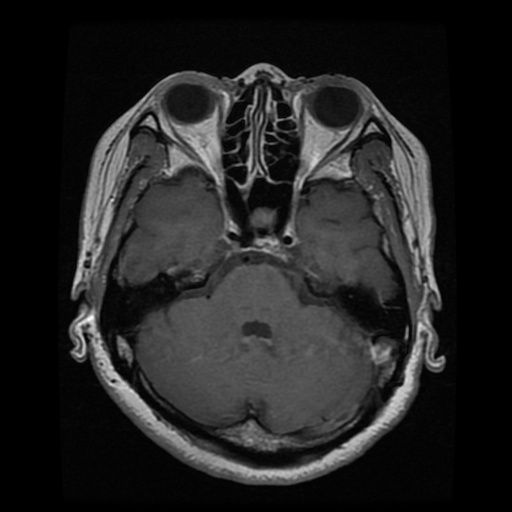pituitary: (249, 206, 276, 229)
